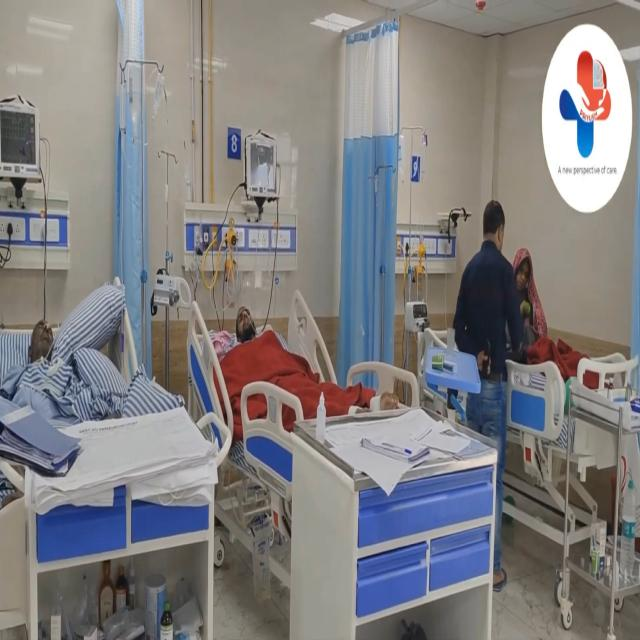Family-Member: (468, 198, 520, 497)
Patient: (8, 289, 105, 401), (510, 232, 567, 378), (215, 290, 295, 378)
